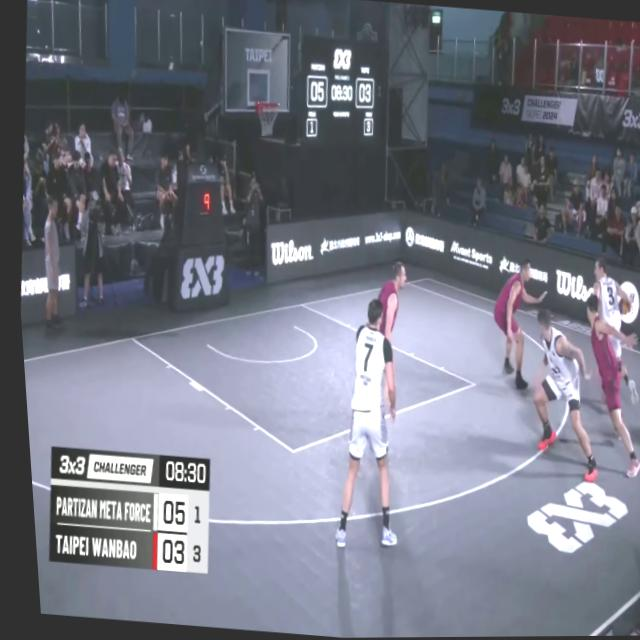ball: (611, 293, 629, 320)
hoop: (248, 92, 279, 143)
player: (316, 294, 411, 550), (517, 309, 606, 481), (564, 293, 640, 485), (572, 254, 640, 414), (478, 259, 549, 395), (358, 260, 410, 410)
